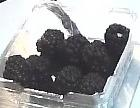berry: (80, 41, 111, 75), (58, 34, 88, 63), (3, 55, 28, 84), (36, 29, 64, 54), (105, 24, 129, 53), (78, 72, 105, 94), (57, 65, 81, 88), (36, 72, 60, 89), (26, 55, 49, 71)
